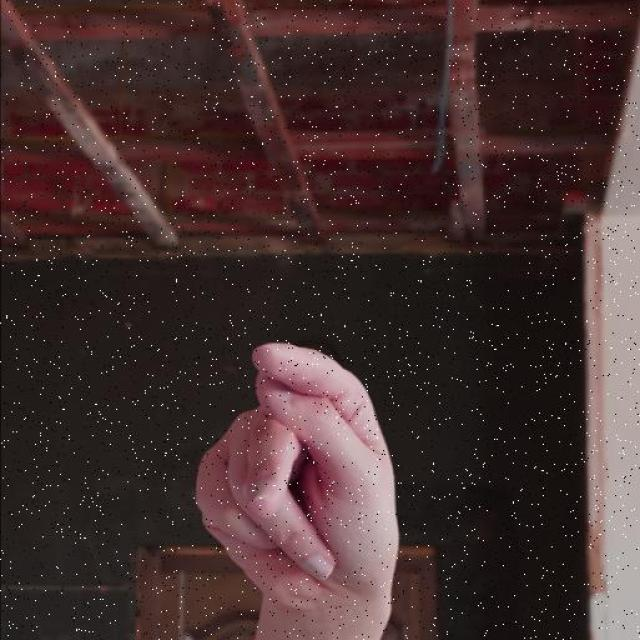P: (146, 307, 444, 640)
